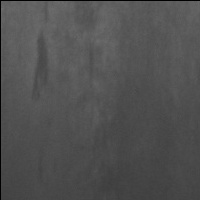inclusion: (22, 24, 56, 107), (77, 32, 102, 97), (32, 151, 50, 183)
